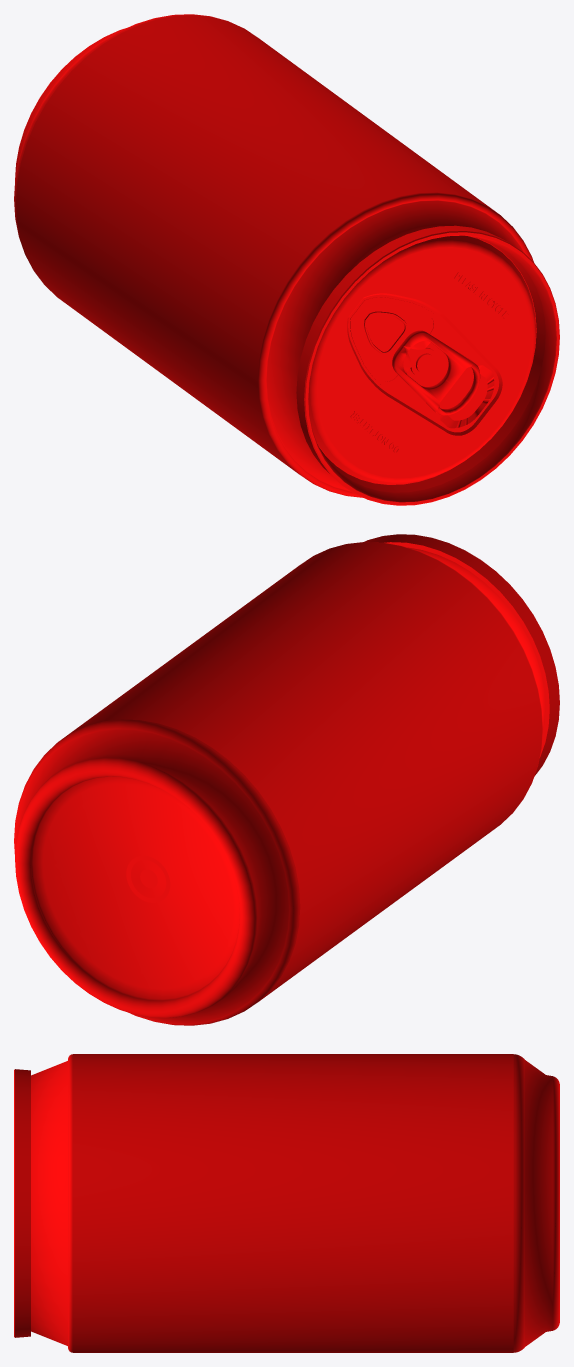
The model's file is model_align.obj.
3 renders of one model, top to bottom at view 1: azimuth 30°, elevation 25°; view 2: azimuth 150°, elevation 25°; view 3: azimuth 270°, elevation 25°, orthographic. The views are drawn at different scales.
Visible parts, largest first — view 1: mesh104_mesh104-geometry, mesh10_mesh10-geometry, mesh1_mesh1-geometry, mesh106_mesh106-geometry, mesh41_mesh41-geometry, mesh38_mesh38-geometry; view 2: mesh104_mesh104-geometry, mesh106_mesh106-geometry, mesh1_mesh1-geometry, mesh105_mesh105-geometry; view 3: mesh104_mesh104-geometry, mesh106_mesh106-geometry, mesh1_mesh1-geometry.
Part boxes in pixels (x1,y1,x2,y2): mesh104_mesh104-geometry: [16, 15, 533, 497]; mesh10_mesh10-geometry: [308, 235, 536, 484]; mesh1_mesh1-geometry: [296, 225, 559, 505]; mesh106_mesh106-geometry: [14, 14, 231, 278]; mesh41_mesh41-geometry: [401, 330, 480, 399]; mesh38_mesh38-geometry: [392, 344, 470, 415]; mesh104_mesh104-geometry: [61, 542, 545, 1001]; mesh106_mesh106-geometry: [14, 719, 300, 1025]; mesh1_mesh1-geometry: [364, 534, 559, 776]; mesh105_mesh105-geometry: [131, 860, 166, 897]; mesh104_mesh104-geometry: [31, 1054, 513, 1352]; mesh106_mesh106-geometry: [513, 1054, 559, 1352]; mesh1_mesh1-geometry: [14, 1069, 30, 1337].
Size of the model in its own units: 0.0573 by 0.0573 by 0.1047.
